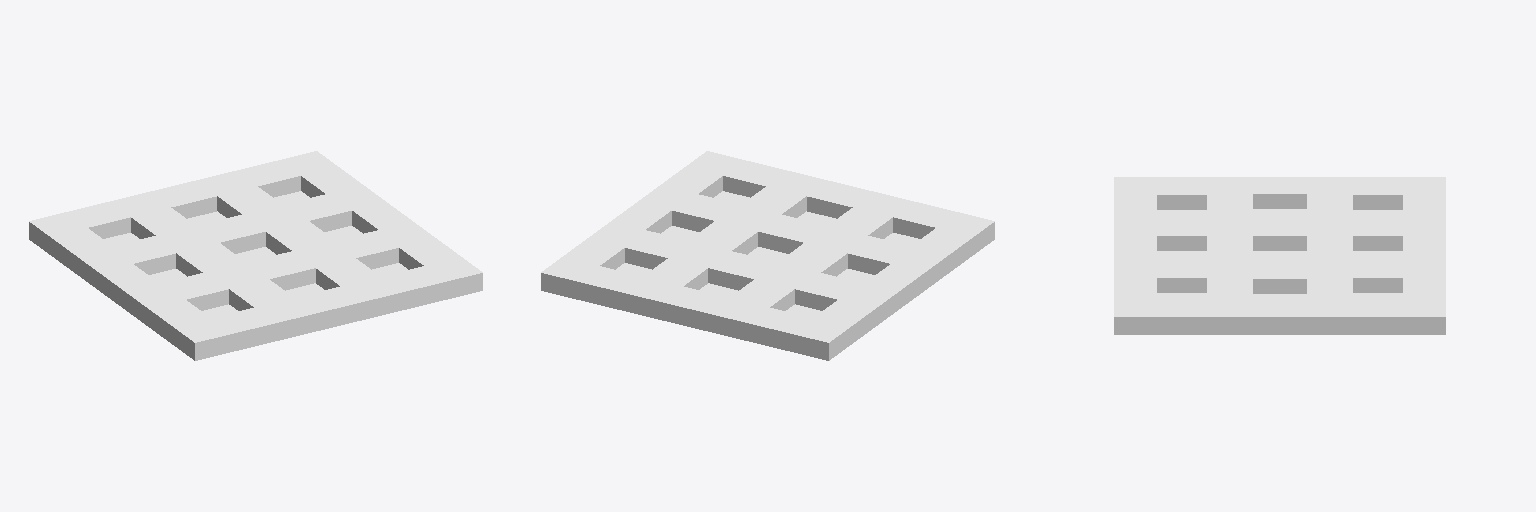
Rendered from basement_holes.obj.
The picture shows the model from 3 angles: view 1: azimuth 30°, elevation 25°; view 2: azimuth 150°, elevation 25°; view 3: azimuth 270°, elevation 25°; orthographic projection.
Bounding box in the file's own units: 100 × 6 × 100.